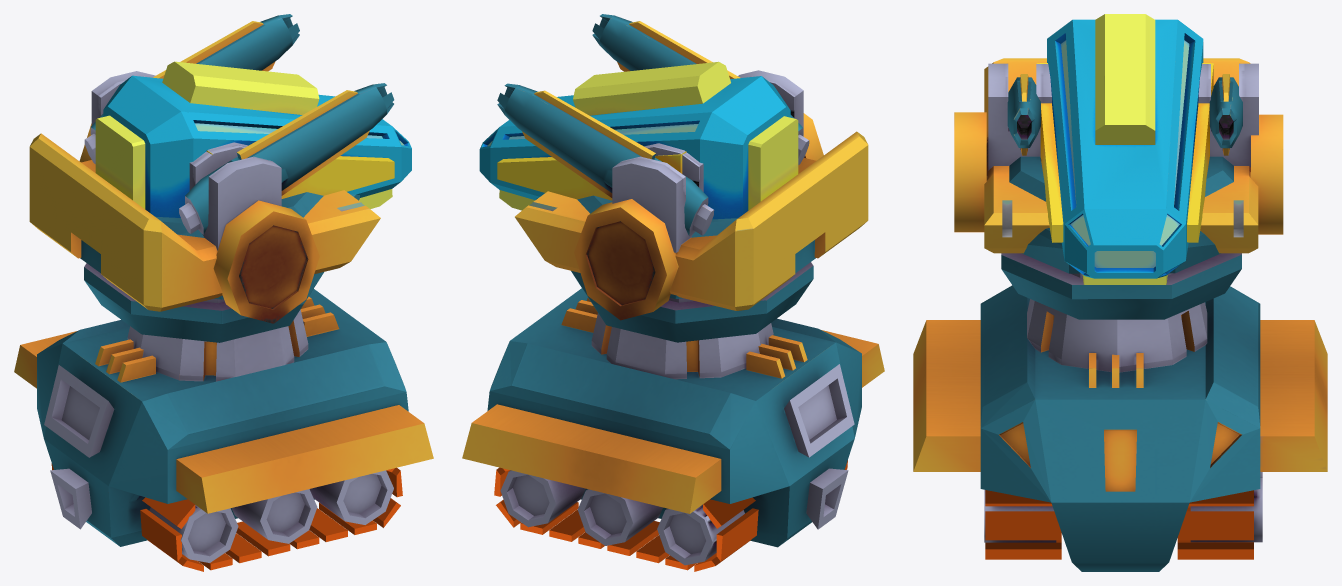
File: Player_idle_upgrade15.obj
3 renders of one model, left to right at view 1: azimuth 30°, elevation 25°; view 2: azimuth 150°, elevation 25°; view 3: azimuth 270°, elevation 25°, orthographic. The views are drawn at different scales.
Visible parts, largest first — view 1: Object008, Object014, Box009, Box017; view 2: Object008, Object014, Box009, Box016; view 3: Object008, Box017, Box016, Object014, Box009.
Part boxes in pixels (box(x1,y1,x2,y2)): Object008: box(14, 61, 433, 546); Object014: box(84, 14, 394, 234); Box009: box(149, 470, 393, 562); Box017: box(140, 467, 402, 571); Object008: box(462, 61, 884, 547); Object014: box(497, 14, 809, 236); Box009: box(500, 470, 744, 565); Box016: box(494, 467, 758, 571); Object008: box(913, 14, 1327, 571); Box017: box(985, 490, 1061, 559); Box016: box(1177, 490, 1253, 559); Object014: box(1007, 74, 1242, 155); Box009: box(984, 472, 1262, 542).
Bounding box in the file's own units: 65.77 × 83.77 × 66.14.
3 materials, 2 textured.
